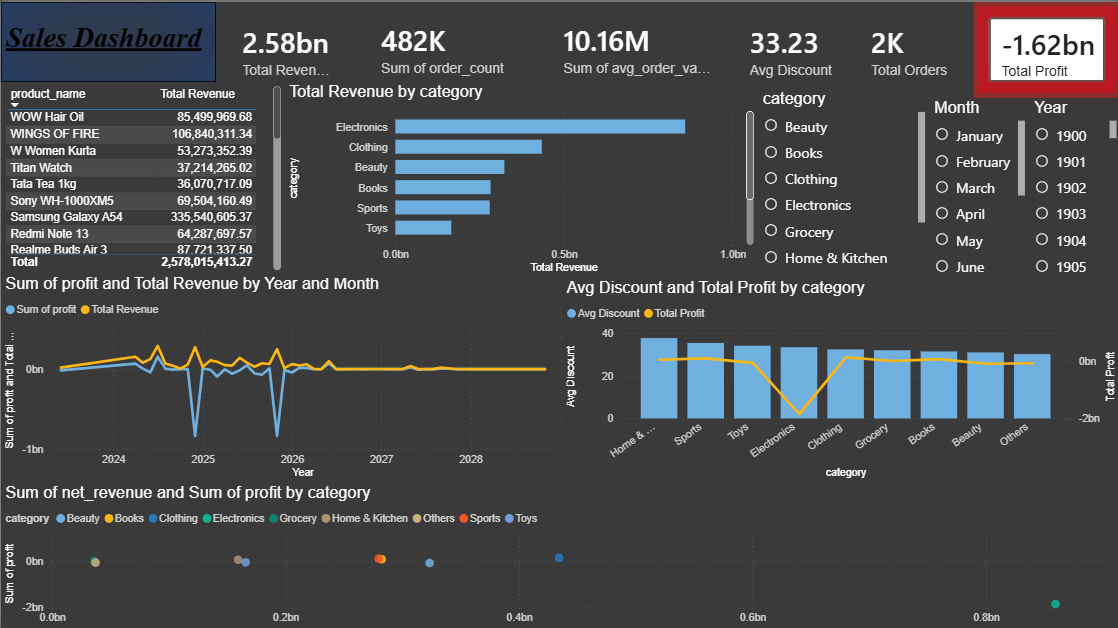

The page's visual inventory and layout, read from the dashboard file:
{"tool":"powerbi","page":{"name":"Page 5","canvas":[1280,720],"ordinal":4},"visuals":[{"type":"textbox","box":[0,0,245.7,91.4],"z":0},{"type":"cardVisual","fields":{"Data":["Sum(Table1.order_count)"]},"box":[404.8,0,208.6,104.3],"z":1000},{"type":"cardVisual","fields":{"Data":["Sum(Table1.avg_order_value)"]},"box":[613.4,0,229.2,104.3],"z":2000},{"type":"cardVisual","fields":{"Data":["final_master_table.Total Profit"]},"box":[1111.5,0,168.8,109.8],"z":3000},{"type":"cardVisual","fields":{"Data":["final_master_table.Total Revenue"]},"box":[245.6,0,159.2,109.8],"z":4000},{"type":"cardVisual","fields":{"Data":["final_master_table.Avg Discount"]},"box":[826.1,0,153.7,109.8],"z":5000},{"type":"cardVisual","fields":{"Data":["final_master_table.Total Orders"]},"box":[964.7,0,146.8,109.8],"z":6000},{"type":"listSlicer","fields":{"Values":["final_master_table.category"]},"box":[866,100,195,216],"z":7000},{"type":"listSlicer","fields":{"Values":["final_master_table.order_date.Variation.Date Hierarchy.Month"]},"box":[1061,110,114,206],"z":8000},{"type":"tableEx","fields":{"Values":["final_master_table.product_name","final_master_table.Total Revenue"]},"box":[0,92,325,220],"z":9000},{"type":"listSlicer","fields":{"Values":["final_master_table.order_date.Variation.Date Hierarchy.Year"]},"box":[1175.4,109.5,104.6,206.8],"z":10000},{"type":"lineChart","fields":{"Category":["final_master_table.order_date.Variation.Date Hierarchy.Year","final_master_table.order_date.Variation.Date Hierarchy.Month"],"Y":["Sum(final_master_table.profit)","final_master_table.Total Revenue"]},"box":[0,312,641,238],"z":11000},{"type":"scatterChart","fields":{"X":["Sum(final_master_table.net_revenue)"],"Y":["Sum(final_master_table.profit)"],"Series":["final_master_table.category"]},"box":[0,550.3,1280.3,170.2],"z":12000},{"type":"lineStackedColumnComboChart","fields":{"Y2":["final_master_table.Total Profit"],"Category":["final_master_table.category"],"Y":["final_master_table.Avg Discount"]},"box":[641,316,639,234],"z":13000},{"type":"barChart","fields":{"Category":["final_master_table.category"],"Y":["final_master_table.Total Revenue"]},"box":[325,92,541,224],"z":14000}]}

Visuals, with their boxes in screenshot pixels (x1, y1, x2, y2), scaled from the page's 1280x720 canvas onto the 1118x628 screenshot:
textbox: left=0, top=0, right=215, bottom=80
cardVisual - Sum(Table1.order_count): left=354, top=0, right=536, bottom=91
cardVisual - Sum(Table1.avg_order_value): left=536, top=0, right=736, bottom=91
cardVisual - final_master_table.Total Profit: left=971, top=0, right=1117, bottom=96
cardVisual - final_master_table.Total Revenue: left=215, top=0, right=354, bottom=96
cardVisual - final_master_table.Avg Discount: left=722, top=0, right=856, bottom=96
cardVisual - final_master_table.Total Orders: left=843, top=0, right=971, bottom=96
listSlicer - final_master_table.category: left=756, top=87, right=927, bottom=276
listSlicer - final_master_table.order_date.Variation.Date Hierarchy.Month: left=927, top=96, right=1026, bottom=276
tableEx - final_master_table.product_name x final_master_table.Total Revenue: left=0, top=80, right=284, bottom=272
listSlicer - final_master_table.order_date.Variation.Date Hierarchy.Year: left=1027, top=96, right=1117, bottom=276
lineChart - final_master_table.order_date.Variation.Date Hierarchy.Year x final_master_table.order_date.Variation.Date Hierarchy.Month: left=0, top=272, right=560, bottom=480
scatterChart - Sum(final_master_table.net_revenue) x Sum(final_master_table.profit): left=0, top=480, right=1117, bottom=627
lineStackedColumnComboChart - final_master_table.Total Profit x final_master_table.category: left=560, top=276, right=1117, bottom=480
barChart - final_master_table.category x final_master_table.Total Revenue: left=284, top=80, right=756, bottom=276
